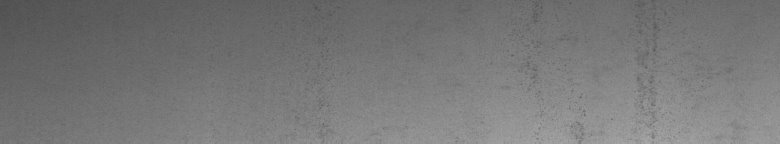ib: (526, 13, 657, 135)
